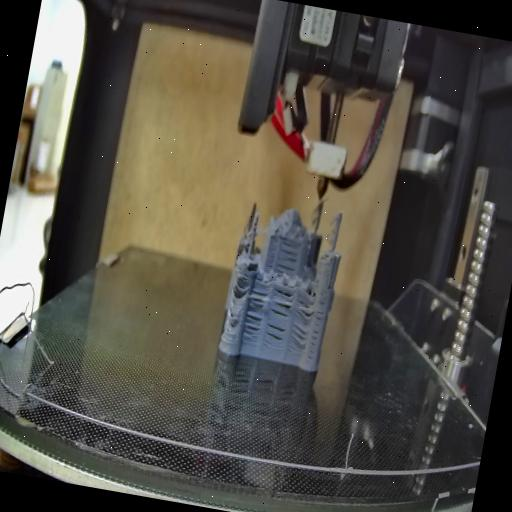cracks: (240, 284, 268, 342), (306, 295, 326, 363), (267, 283, 295, 319), (276, 238, 302, 272), (294, 292, 316, 322), (287, 323, 309, 352), (230, 272, 250, 302), (264, 320, 287, 346), (223, 306, 241, 332)
